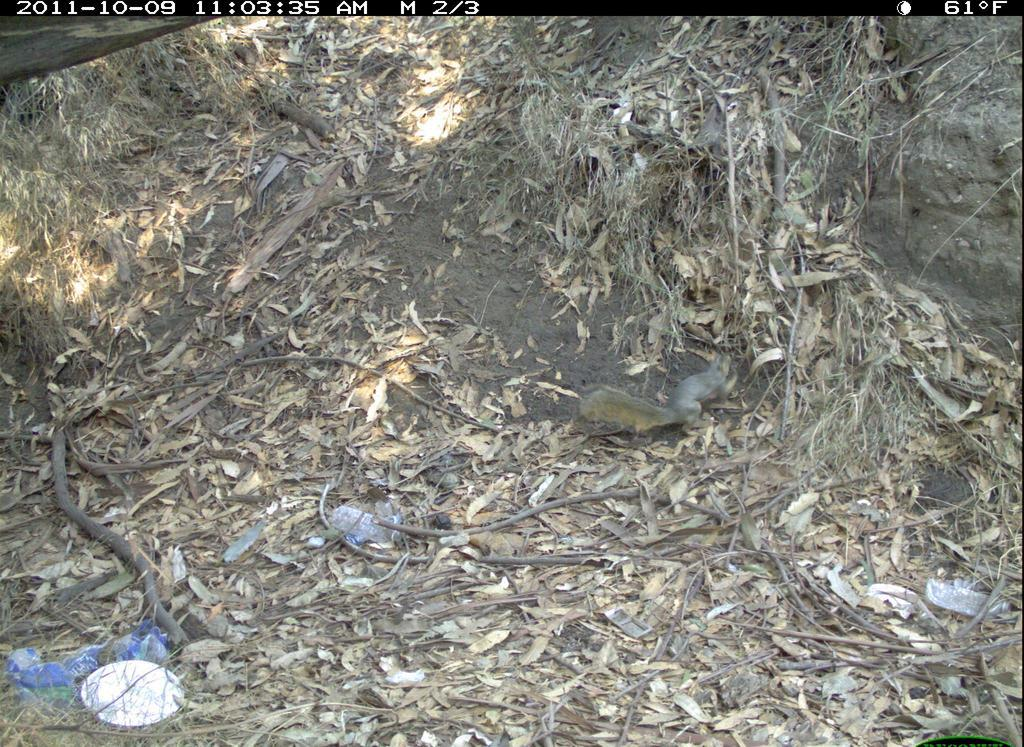squirrel: (569, 348, 755, 450)
